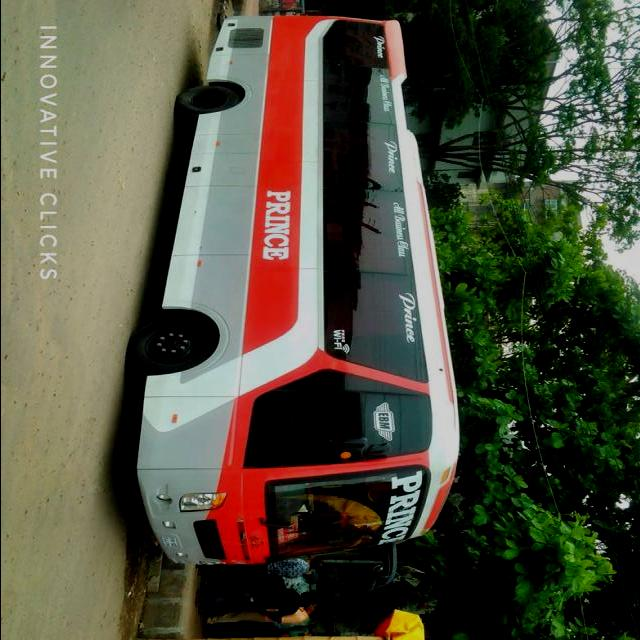bus: (127, 15, 462, 597)
